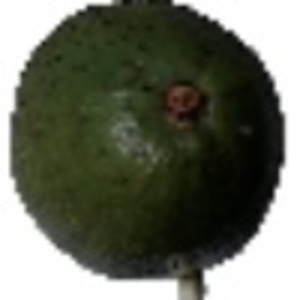abacate: (7, 1, 286, 277)
